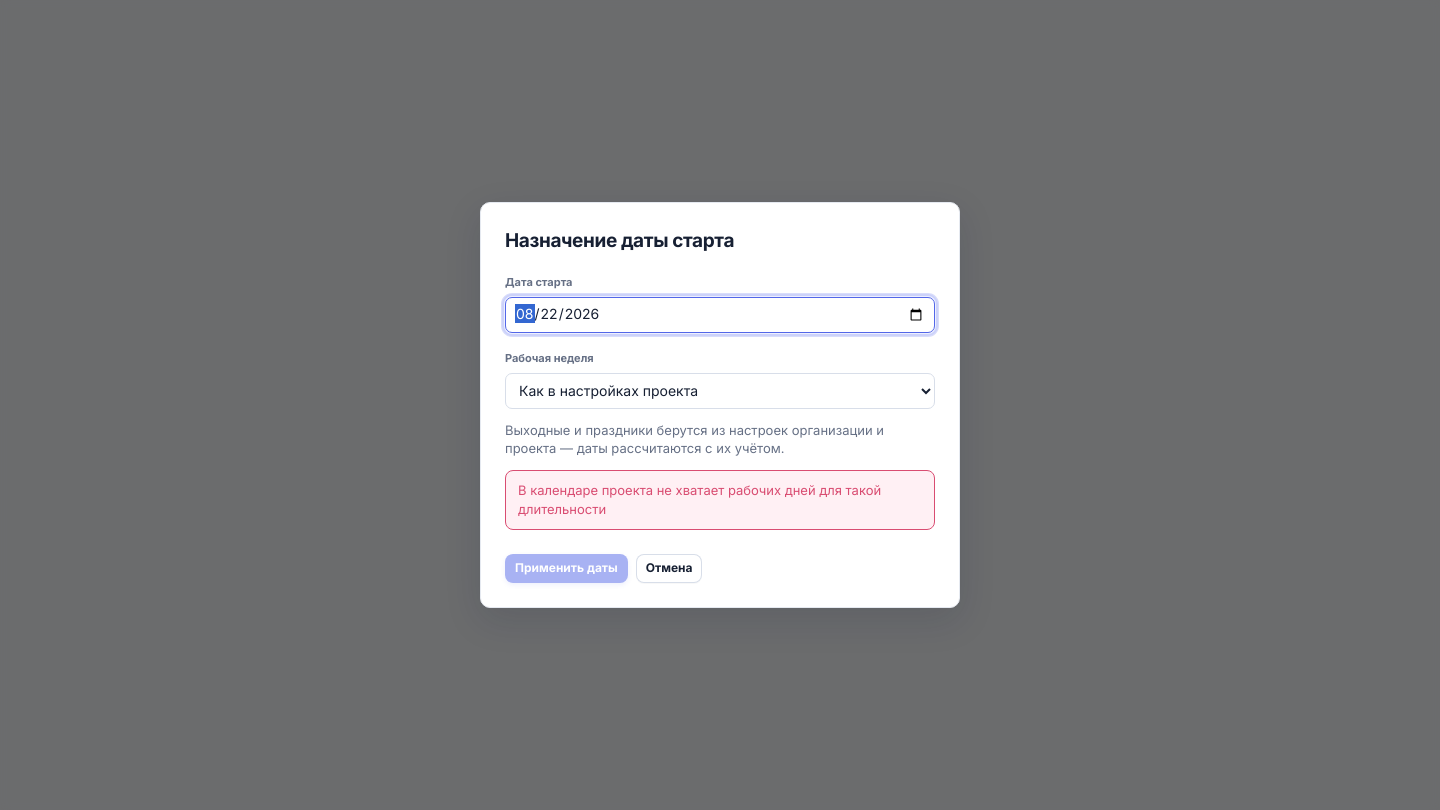
Scenario: окно привязки к дате старта › отказ календаря показывается до кнопки, а кнопка гаснет
The image size is (1440, 810).
Clear the date field labelled "Дата старта" at (720, 315), box [505,297,935,333]
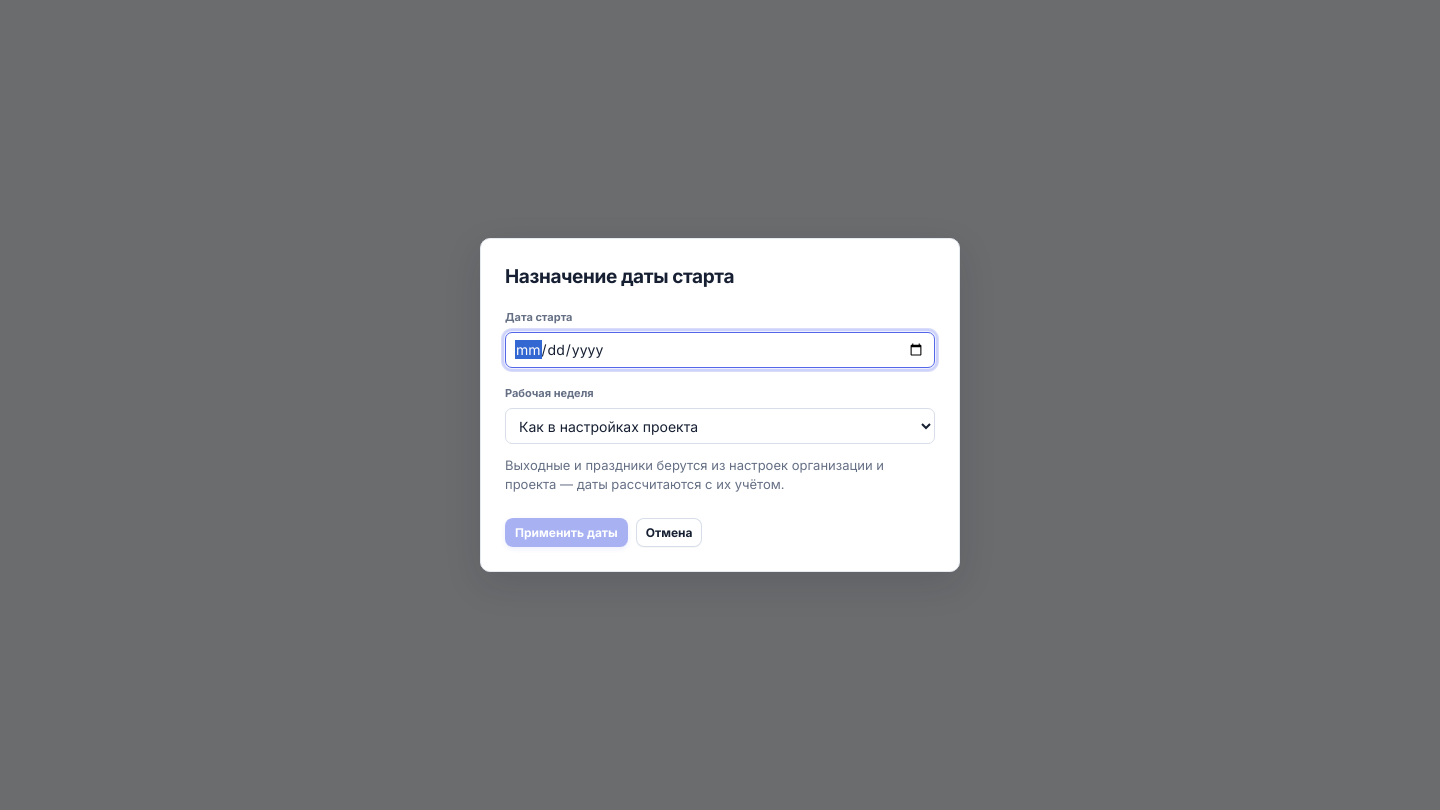
Type "2026-08-24" into the date field labelled "Дата старта" at (720, 350), box [505,332,935,368]
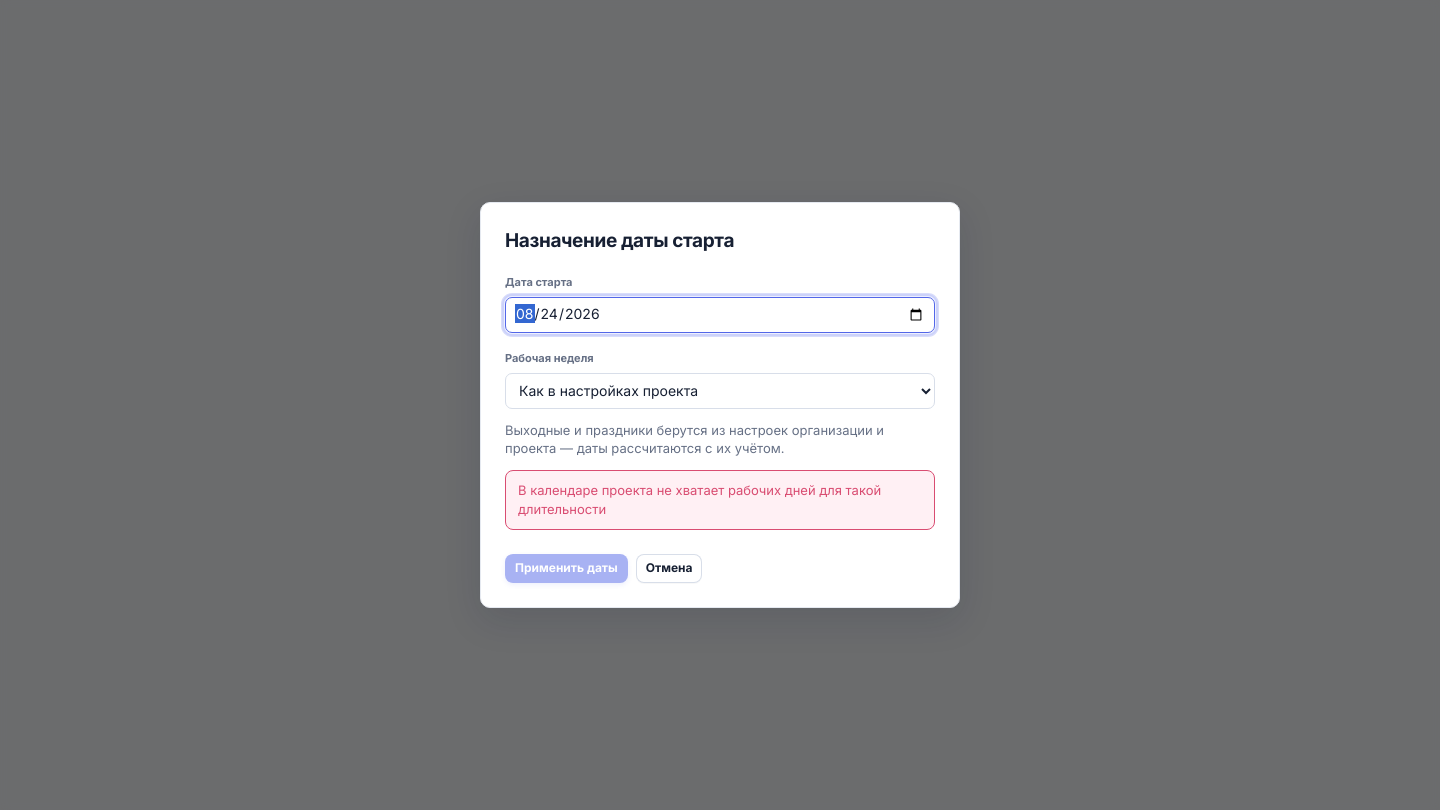
Expected: the button "Применить даты" is disabled, [505,554,628,583]
Expected: the message "В календаре проекта не хватает рабочих дней для такой длительности" is shown, [505,470,935,530]
